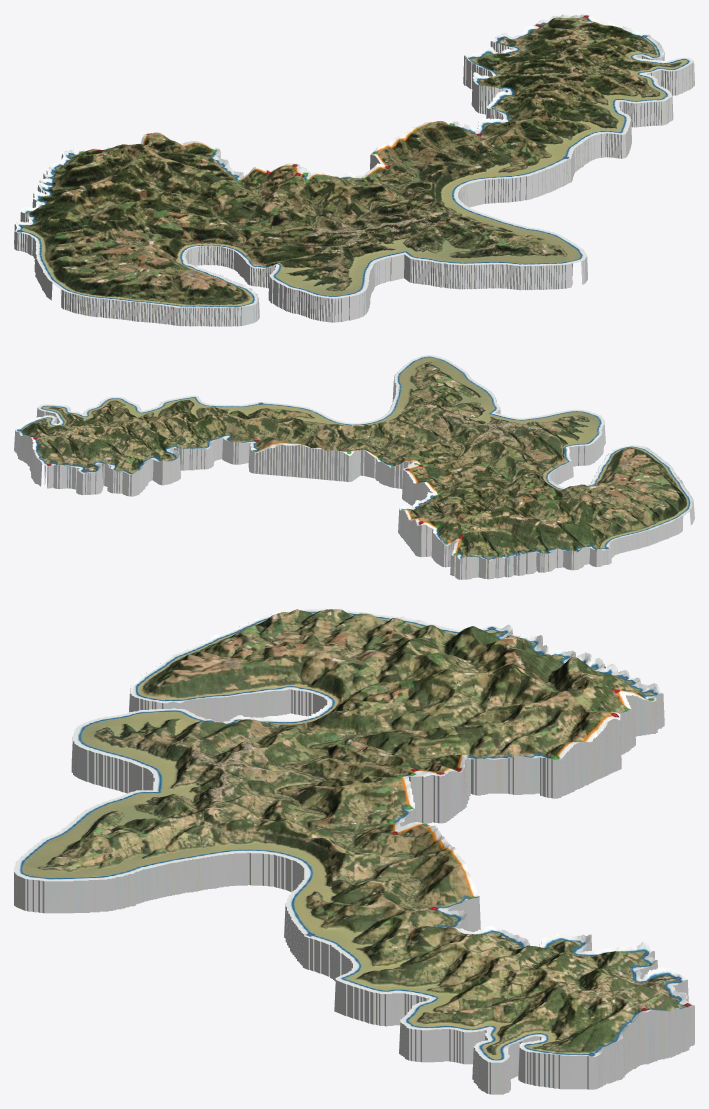
3 views of the same model, one above another, from view 1: azimuth 30°, elevation 25°; view 2: azimuth 150°, elevation 25°; view 3: azimuth 270°, elevation 25° (orthographic). The views are drawn at different scales.
Bounding box in the file's own units: 1 × 0.0612 × 0.6229.
1 material, 1 textured.
